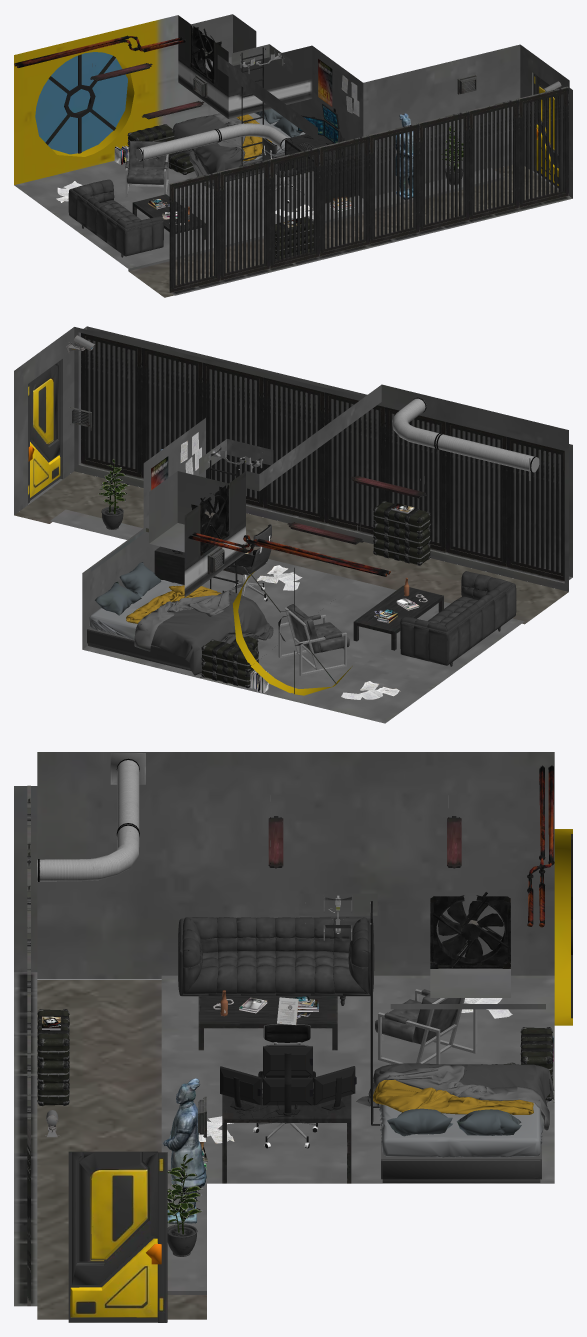
Rendered from futuriste.glb.
3 renders of one model, top to bottom at view 1: azimuth 30°, elevation 25°; view 2: azimuth 150°, elevation 25°; view 3: azimuth 270°, elevation 25°, orthographic. The views are drawn at different scales.
Bounding box in the file's own units: 9.07 × 2.81 × 6.24.
27 materials, 27 textured.
